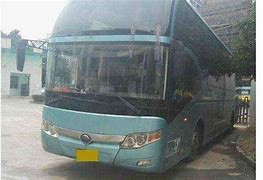bigcar: (24, 0, 239, 171)
